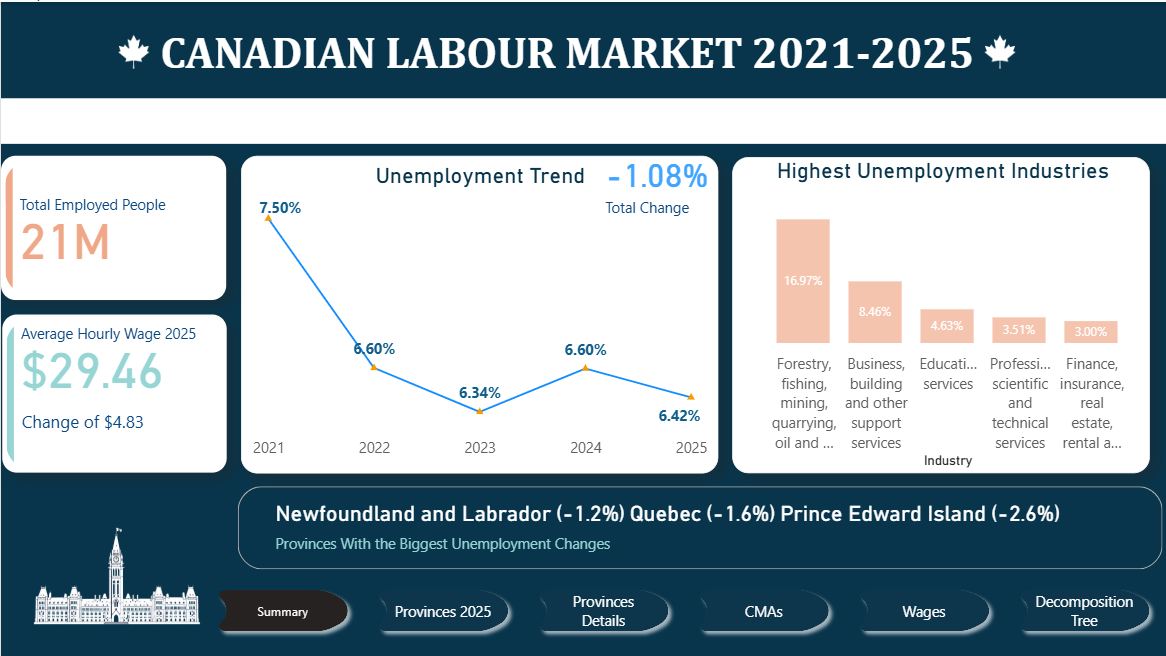

This screenshot's page, from the dashboard's own definition file:
{"tool":"powerbi","page":{"name":"Summary","canvas":[1280,720],"ordinal":0},"visuals":[{"type":"textbox","box":[170,22,939.1,84.4],"z":0},{"type":"image","box":[1073.6,30.6,47.7,48.9],"z":1000},{"type":"image","box":[122.3,30.6,47.7,48.9],"z":2000},{"type":"shape","box":[0,105.9,1280.3,50.1],"z":3000},{"type":"image","box":[0,556.7,255,143.3],"z":4000},{"type":"cardVisual","fields":{"Data":["fact_province.Average Hourly Wage"]},"box":[1.5,343.2,246.7,173.3],"z":5000},{"type":"lineChart","title":"Unemployment Trend","fields":{"Category":["dim_year.Year"],"Y":["Avg(fact_province.Unemployment Rate Percent)"]},"box":[262.8,169.1,524.1,348.9],"z":6000},{"type":"clusteredColumnChart","title":"Highest Unemployment Industries","fields":{"Category":["dim_industry.NAICS"],"Y":["fact_province.Unemployment Measure"]},"box":[802.3,170.6,458,347.4],"z":7000},{"type":"pageNavigator","box":[221.7,636.7,1058.3,63.3],"z":8000},{"type":"cardVisual","fields":{"Data":["fact_province.Top 3 Unemployment Improvement"]},"box":[255,526.7,1025,101.7],"z":9000},{"type":"cardVisual","fields":{"Data":["Sum(fact_province.Employment Total)"]},"box":[0,169.3,247.5,158.3],"z":10000},{"type":"cardVisual","fields":{"Data":["fact_province.Unemployment Change"]},"box":[646.7,150,155,106.7],"z":11000}]}

Visuals, with their boxes in screenshot pixels (x1, y1, x2, y2), scaled from the page's 1280x720 canvas onto the 1166x656 screenshot:
textbox: pyautogui.locateOnScreen(155, 20, 1010, 97)
image: pyautogui.locateOnScreen(978, 28, 1021, 72)
image: pyautogui.locateOnScreen(111, 28, 155, 72)
shape: pyautogui.locateOnScreen(0, 96, 1165, 142)
image: pyautogui.locateOnScreen(0, 507, 232, 638)
cardVisual - fact_province.Average Hourly Wage: pyautogui.locateOnScreen(1, 313, 226, 471)
"Unemployment Trend" lineChart: pyautogui.locateOnScreen(239, 154, 717, 472)
"Highest Unemployment Industries" clusteredColumnChart: pyautogui.locateOnScreen(731, 155, 1148, 472)
pageNavigator: pyautogui.locateOnScreen(202, 580, 1165, 638)
cardVisual - fact_province.Top 3 Unemployment Improvement: pyautogui.locateOnScreen(232, 480, 1165, 573)
cardVisual - Sum(fact_province.Employment Total): pyautogui.locateOnScreen(0, 154, 225, 298)
cardVisual - fact_province.Unemployment Change: pyautogui.locateOnScreen(589, 137, 730, 234)
